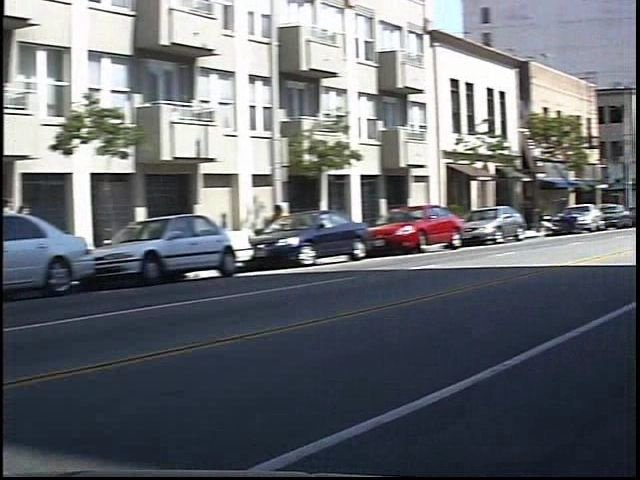person: (30, 199, 49, 265), (10, 189, 34, 225)
